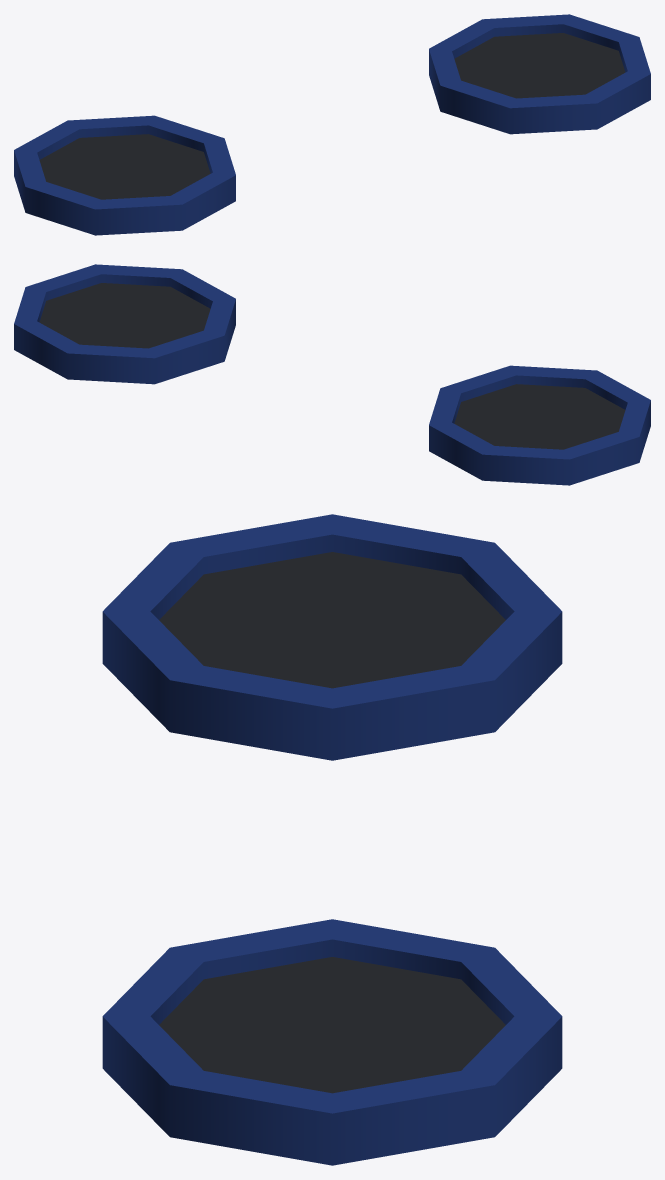
File: l4_fan.obj
3 views of the same model, one above another, from view 1: azimuth 30°, elevation 25°; view 2: azimuth 150°, elevation 25°; view 3: azimuth 270°, elevation 25° (orthographic). The views are drawn at different scales.
Visible parts, largest first — view 1: l4_fan; view 2: l4_fan; view 3: l4_fan.
Part boxes in pixels (box(x1,y1,x2,y2)): l4_fan: box(14, 14, 650, 235); l4_fan: box(14, 264, 650, 485); l4_fan: box(102, 514, 562, 1165).
Size of the model in its own units: 1.48 by 0.06 by 0.48.
